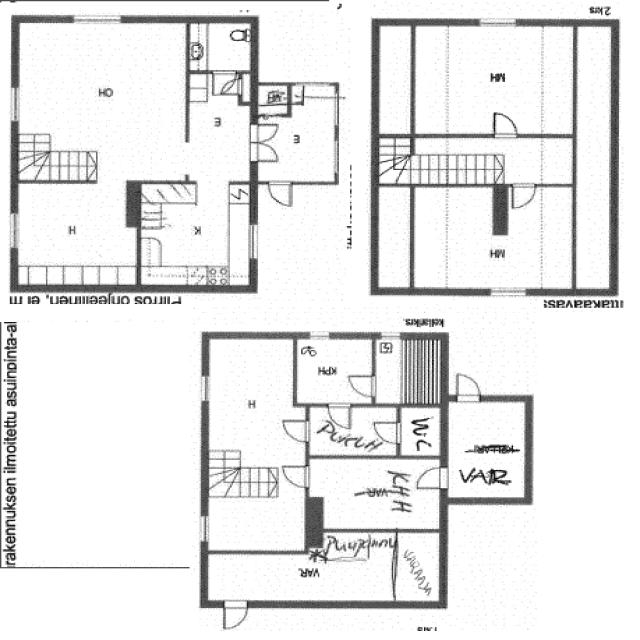door: (248, 121, 284, 162), (453, 372, 483, 405), (414, 464, 449, 492), (220, 600, 251, 631), (490, 110, 521, 140), (346, 372, 378, 400), (278, 418, 312, 444), (509, 182, 539, 211), (280, 463, 312, 490), (370, 420, 403, 446), (266, 180, 294, 208), (326, 402, 353, 430), (210, 72, 237, 96)
window: (6, 82, 24, 126), (6, 210, 23, 253), (69, 15, 125, 27), (246, 220, 260, 264), (485, 286, 530, 299), (475, 18, 520, 30), (197, 512, 211, 546), (198, 372, 212, 404), (330, 139, 341, 177), (332, 96, 344, 128), (304, 330, 333, 341), (210, 68, 238, 79), (378, 331, 404, 340)
zone: (16, 21, 189, 181), (410, 23, 574, 136), (12, 180, 137, 290), (205, 335, 300, 471), (140, 181, 253, 288), (204, 546, 398, 607), (312, 456, 443, 530), (412, 184, 498, 293), (444, 398, 529, 501), (252, 83, 339, 181), (496, 186, 574, 291), (292, 334, 375, 407), (202, 496, 307, 553), (186, 100, 250, 186), (302, 406, 400, 455), (372, 339, 443, 406), (375, 24, 414, 136), (374, 187, 412, 290), (393, 529, 443, 604), (189, 21, 253, 74), (398, 404, 444, 458), (266, 180, 294, 208)
